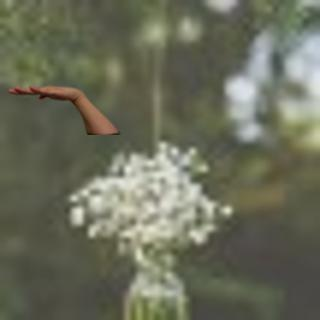WAIT: (6, 80, 84, 105)
